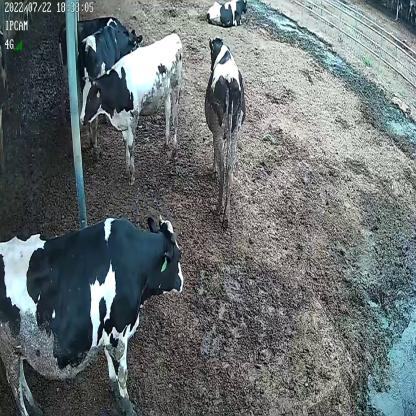cow: (0, 212, 186, 416), (80, 32, 184, 183), (204, 32, 246, 232), (79, 22, 145, 80), (206, 0, 248, 26)
